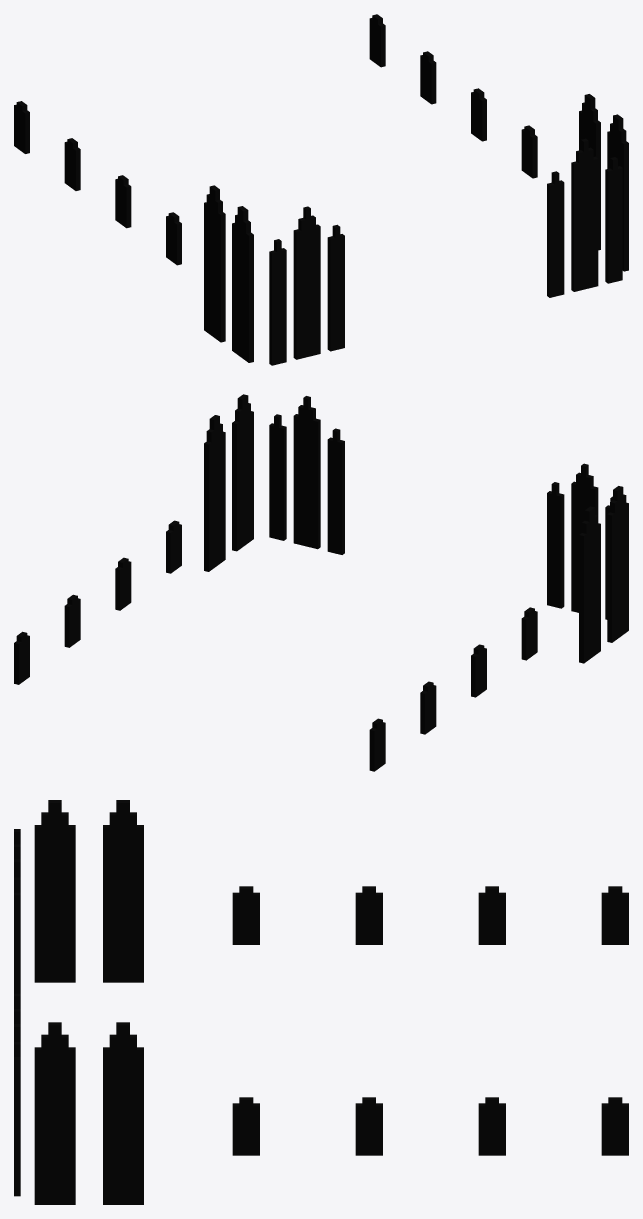
File: church-81-ch_windowlower.glb
3 views of the same model, one above another, from view 1: azimuth 30°, elevation 25°; view 2: azimuth 150°, elevation 25°; view 3: azimuth 270°, elevation 25° (orthographic). The views are drawn at different scales.
Visible parts, largest first — view 1: ch_windowlower; view 2: ch_windowlower; view 3: ch_windowlower.
Part boxes in pixels (x1,y1,x2,y2): ch_windowlower: [14, 14, 628, 365]; ch_windowlower: [14, 394, 628, 771]; ch_windowlower: [14, 800, 628, 1204].
Bounding box in the file's own units: 7.8 × 2.9 × 9.
1 material, 1 textured.
